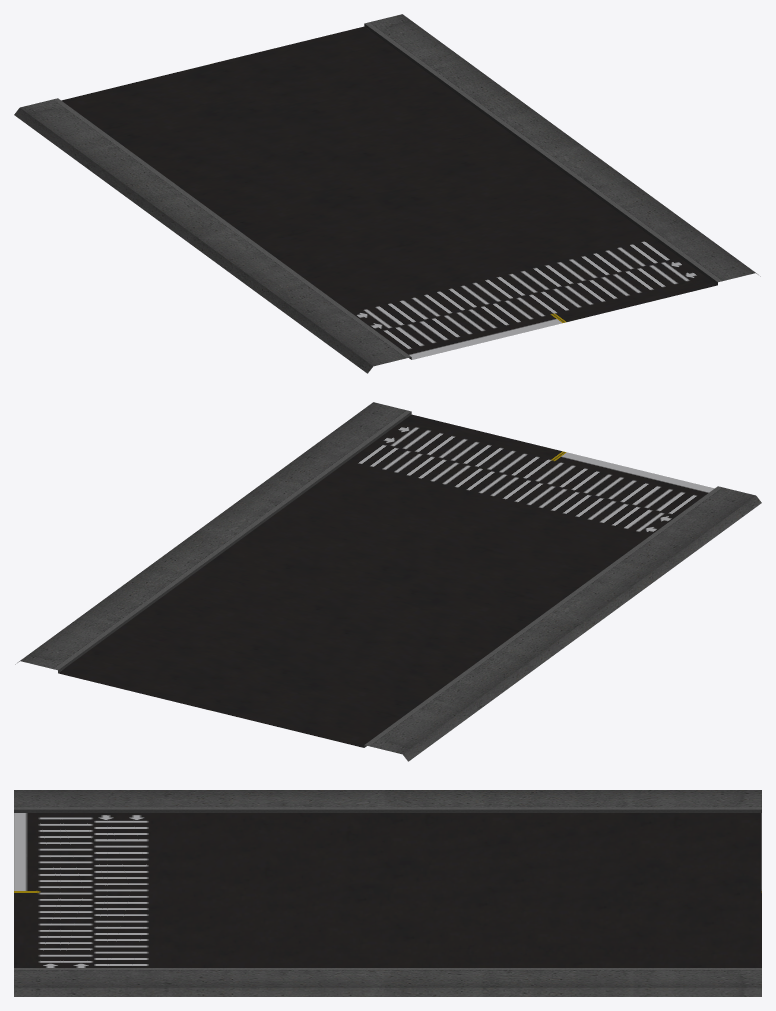
File: RJs_Road 4+4 Basic Node.fbx
3 renders of one model, top to bottom at view 1: azimuth 30°, elevation 25°; view 2: azimuth 150°, elevation 25°; view 3: azimuth 270°, elevation 25°, orthographic. The views are drawn at different scales.
Visible parts, largest first — view 1: plane; view 2: plane; view 3: plane.
Boxes of the visible parts, x1,y1,x2,y2 form: plane: [14, 14, 760, 373]; plane: [15, 402, 761, 761]; plane: [14, 790, 761, 996].
Size of the model in its own units: 4120 by 60.1 by 6400.
